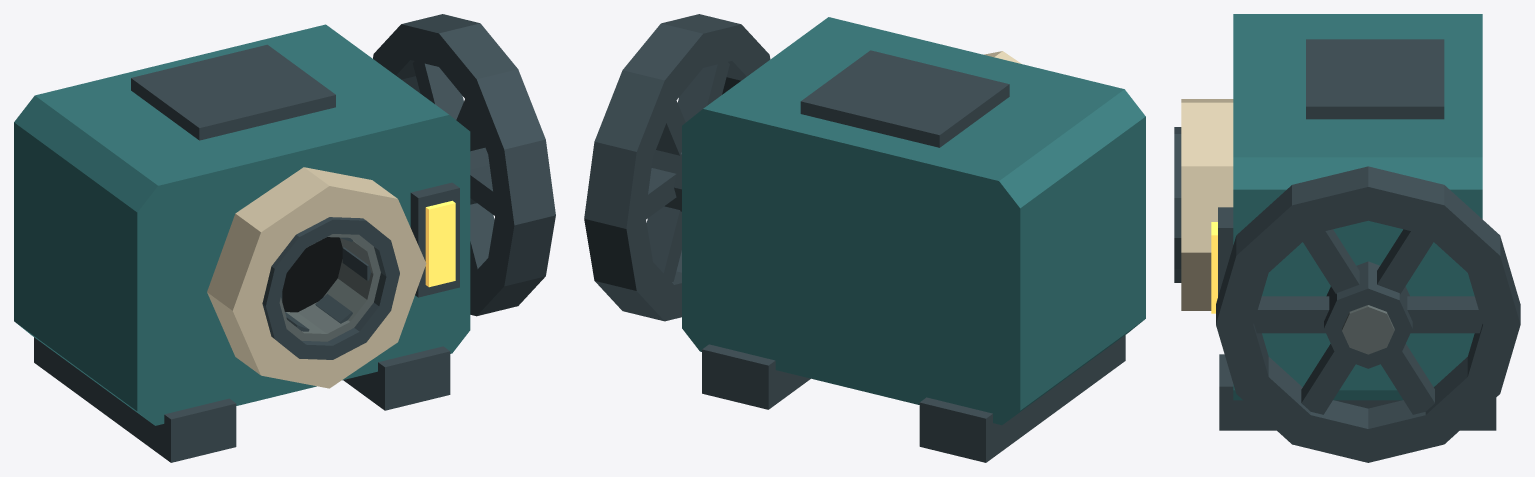
Rendered from shared_generator.glb.
3 views of the same model, side by side, from view 1: azimuth 30°, elevation 25°; view 2: azimuth 150°, elevation 25°; view 3: azimuth 270°, elevation 25° (orthographic).
Visible parts, largest first — view 1: SharedGenerator_teal, SharedGenerator_iron, FlywheelPivot_iron, SharedGenerator_cream, SocketRotor_steel, SharedGenerator_shaft, SharedGenerator_amber, SocketRotor_iron; view 2: SharedGenerator_teal, FlywheelPivot_iron, SharedGenerator_iron; view 3: FlywheelPivot_iron, SharedGenerator_teal, SharedGenerator_iron, SharedGenerator_cream, FlywheelPivot_steel, SharedGenerator_amber.
Part boxes in pixels (x1,y1,x2,y2): SharedGenerator_teal: (14, 24, 470, 425); SharedGenerator_iron: (34, 44, 459, 462); FlywheelPivot_iron: (373, 14, 555, 316); SharedGenerator_cream: (207, 167, 426, 388); SocketRotor_steel: (279, 234, 380, 341); SharedGenerator_shaft: (282, 237, 342, 312); SharedGenerator_amber: (425, 200, 455, 287); SocketRotor_iron: (281, 237, 370, 331); SharedGenerator_teal: (682, 17, 1145, 425); FlywheelPivot_iron: (584, 14, 770, 321); SharedGenerator_iron: (702, 50, 1125, 462); FlywheelPivot_iron: (1216, 166, 1520, 462); SharedGenerator_teal: (1233, 14, 1482, 400); SharedGenerator_iron: (1174, 39, 1496, 430); SharedGenerator_cream: (1181, 99, 1233, 310); FlywheelPivot_steel: (1342, 305, 1394, 354); SharedGenerator_amber: (1211, 222, 1217, 313).
Bounding box in the file's own units: 0.71 × 0.47 × 0.5.
